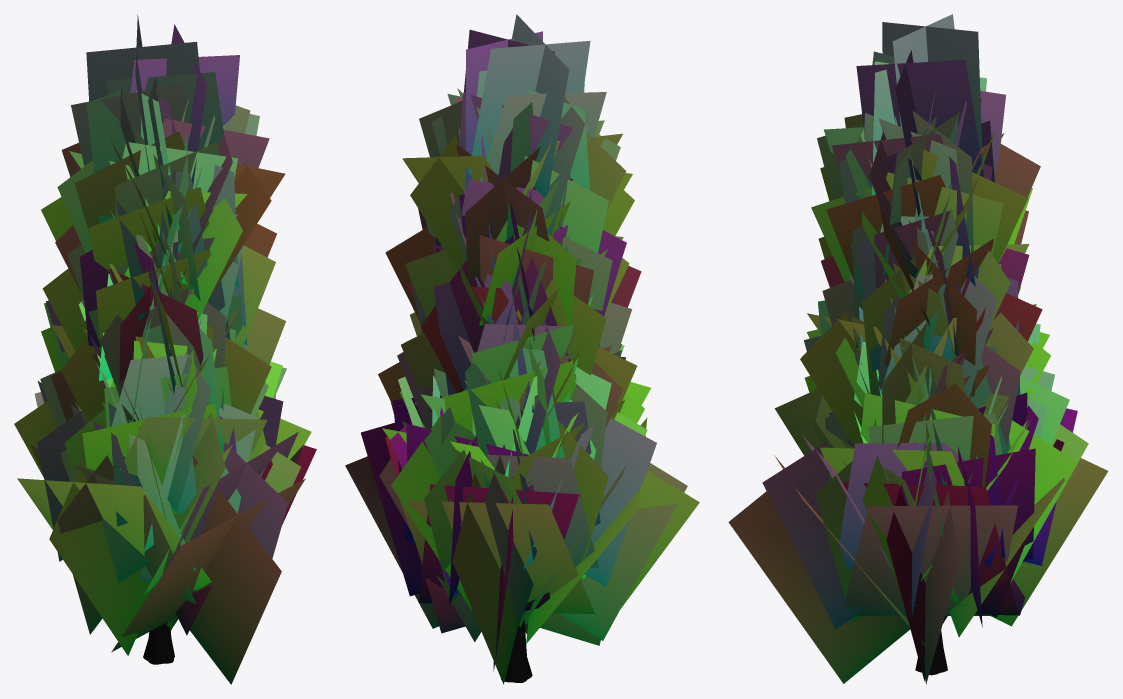
Rendered from Tree_6_7.fbx.
3 renders of one model, left to right at view 1: azimuth 30°, elevation 25°; view 2: azimuth 150°, elevation 25°; view 3: azimuth 270°, elevation 25°, orthographic. The views are drawn at different scales.
Parts seen in each view (by area): view 1: _7; view 2: _7; view 3: _7.
Part boxes in pixels (bbox=[...]): _7: bbox=[14, 14, 316, 684]; _7: bbox=[345, 14, 699, 684]; _7: bbox=[728, 14, 1108, 684].
Size of the model in its own units: 519 by 1049 by 566.
